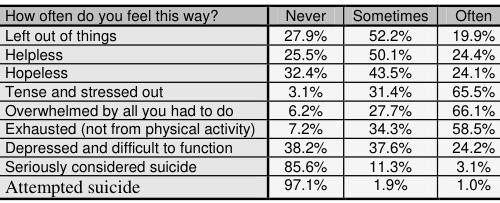table: (3, 4, 494, 197)
table column: (3, 4, 268, 197), (339, 4, 439, 197), (268, 4, 339, 197), (439, 4, 494, 197)
table column header: (3, 4, 494, 24)
table row: (3, 173, 494, 197), (3, 4, 494, 24), (3, 24, 494, 43), (3, 43, 494, 62), (3, 80, 494, 99), (3, 99, 494, 118), (3, 136, 494, 155), (3, 62, 494, 80), (3, 118, 494, 136), (3, 155, 494, 173)
